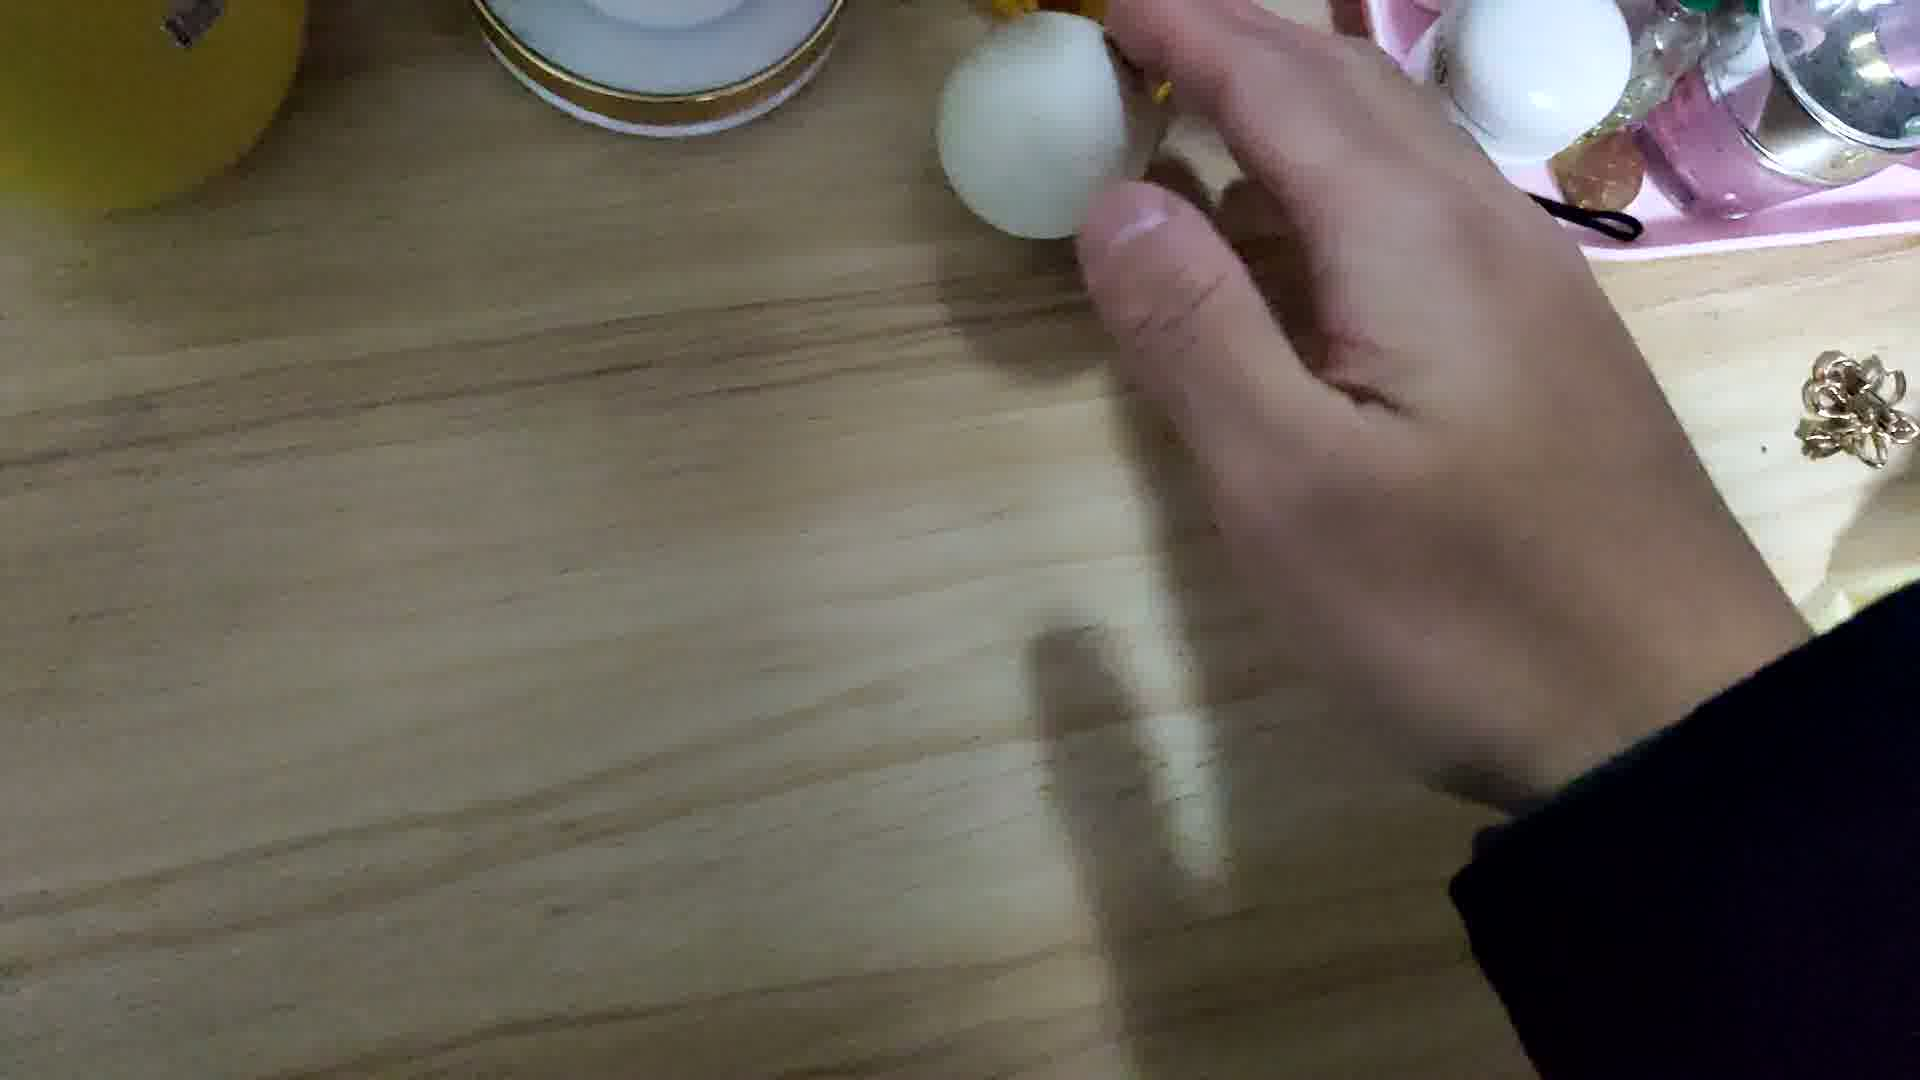Ball: (935, 13, 1162, 245)
